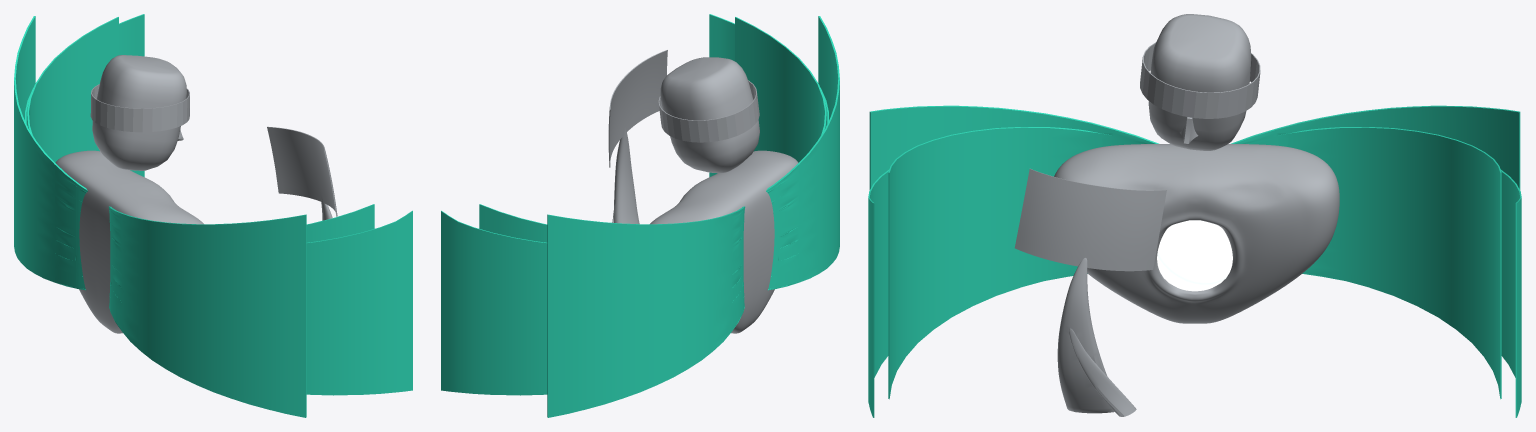
The model's file is superhuman.glb.
The picture shows the model from 3 angles, left to right: view 1: azimuth 30°, elevation 25°; view 2: azimuth 150°, elevation 25°; view 3: azimuth 270°, elevation 25°; orthographic projection. The views are drawn at different scales.
Visible parts, largest first — view 1: wing, body, head, 큐브, eye; view 2: wing, body, head, 큐브, eye; view 3: wing, body, 큐브, head, core, eye.
Boxes of the visible parts, <box> form: wing: <box>14,14,412,417</box>; body: <box>55,150,203,333</box>; head: <box>92,55,186,170</box>; 큐브: <box>267,126,337,220</box>; eye: <box>90,84,189,132</box>; wing: <box>441,14,839,417</box>; body: <box>650,150,798,333</box>; head: <box>660,57,759,173</box>; 큐브: <box>608,50,667,224</box>; eye: <box>658,80,759,142</box>; wing: <box>868,105,1521,417</box>; body: <box>1054,144,1339,323</box>; 큐브: <box>1014,168,1166,416</box>; head: <box>1148,14,1251,150</box>; core: <box>1157,220,1232,291</box>; eye: <box>1140,42,1260,118</box>.
Size of the model in its own units: 13.85 by 17.57 by 33.04.
